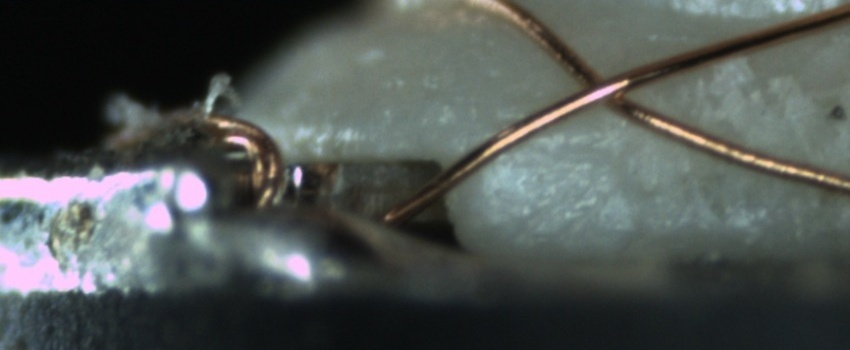CL: (559, 55, 657, 120)
DL: (486, 125, 616, 189)
TE: (145, 108, 293, 210)
